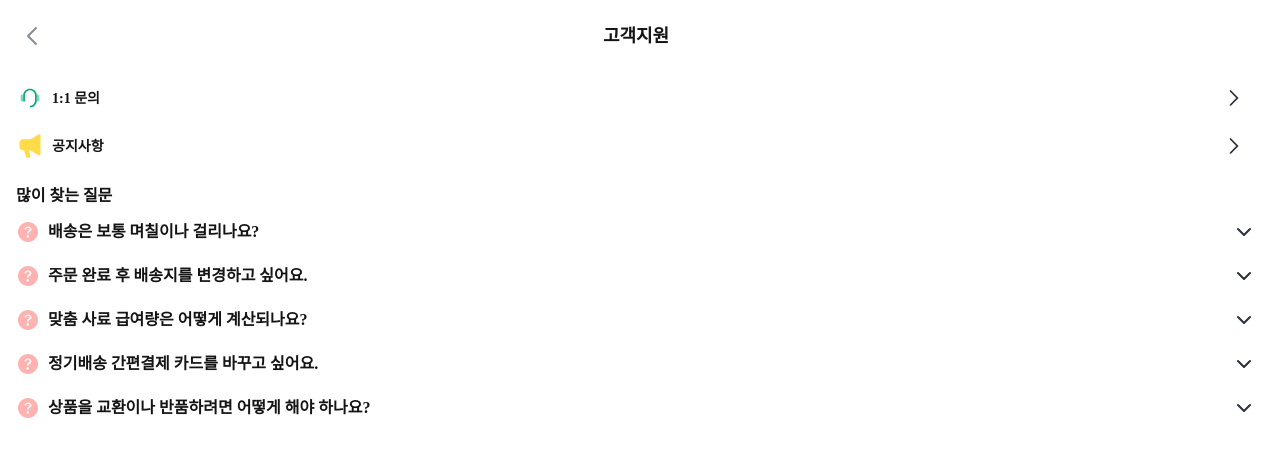
자주 묻는 질문은 접혀 있다가 눌러야 펼쳐진다
Step 1. Click the button "배송은 보통 며칠이나 걸리나요?" → (154, 232), box [16,220,1256,244]
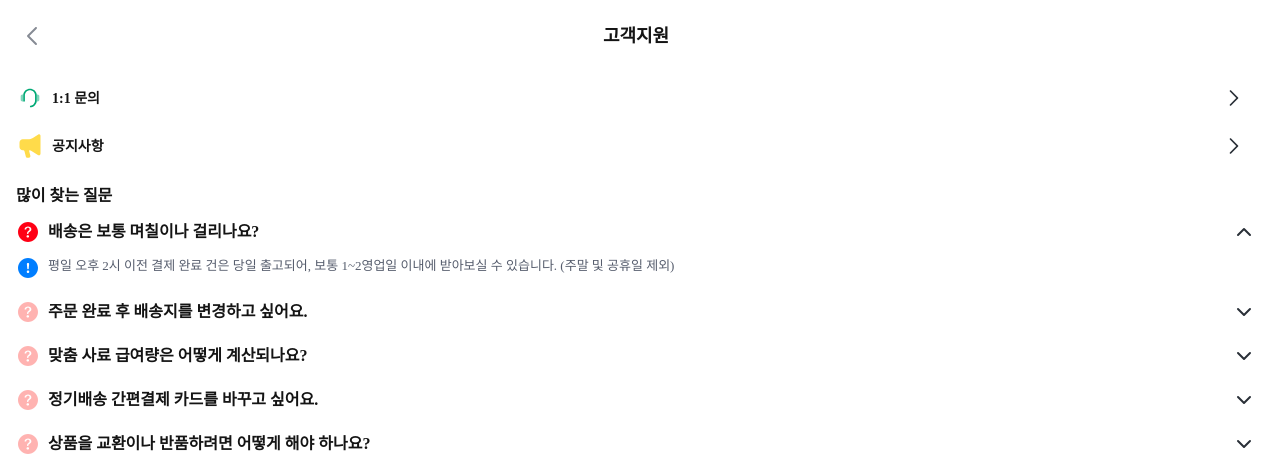
Expected: the button "배송은 보통 며칠이나 걸리나요?" is expanded, [16,220,1256,244]
